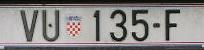-: (153, 22, 160, 28)
1: (92, 9, 101, 42)
3: (110, 9, 127, 41)
5: (132, 9, 148, 41)
F: (166, 9, 180, 40)
U: (42, 10, 59, 42)
V: (20, 10, 39, 42)
